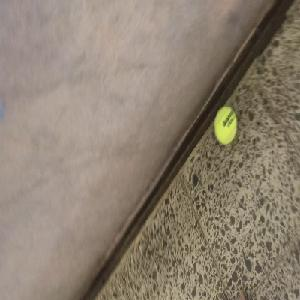Ball: (214, 107, 236, 145)
